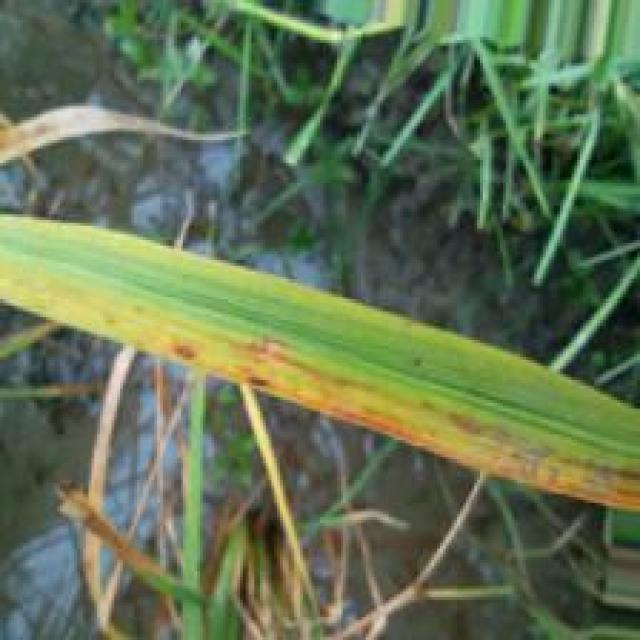Bacterial_Leaf_Blight: (164, 337, 639, 511), (236, 337, 300, 365)
